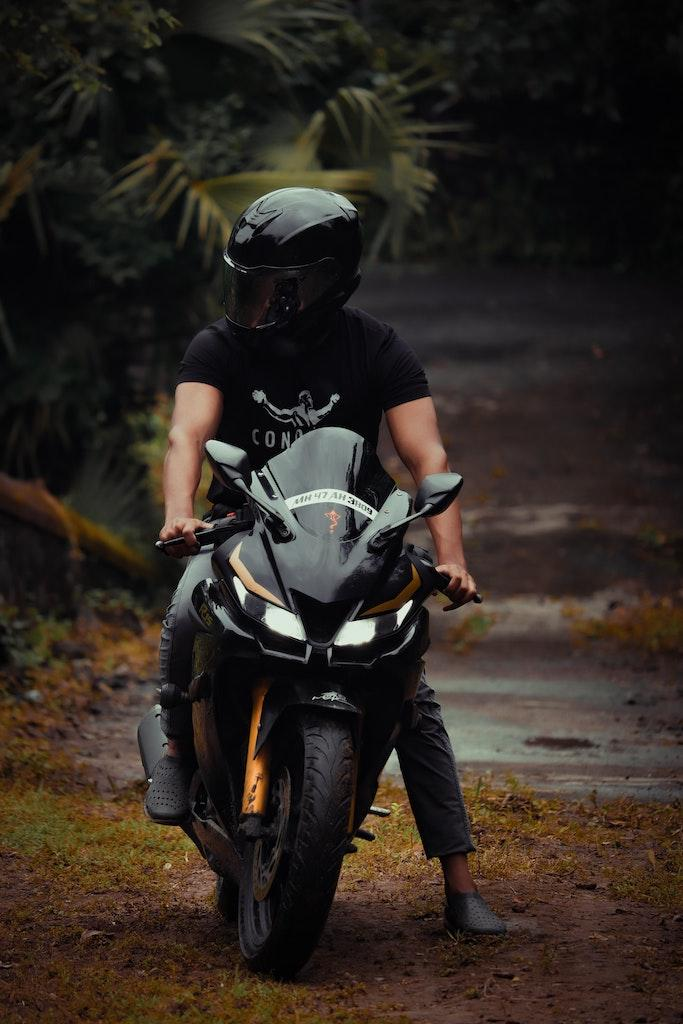helmet: (221, 185, 366, 343)
